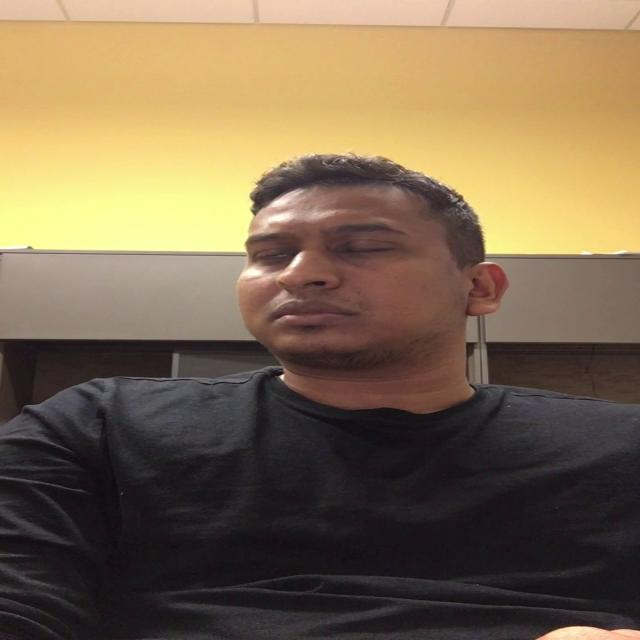sem_oculos: (208, 214, 492, 272)
